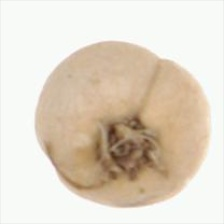L3: (98, 114, 157, 178)
L4: (35, 42, 211, 210)
